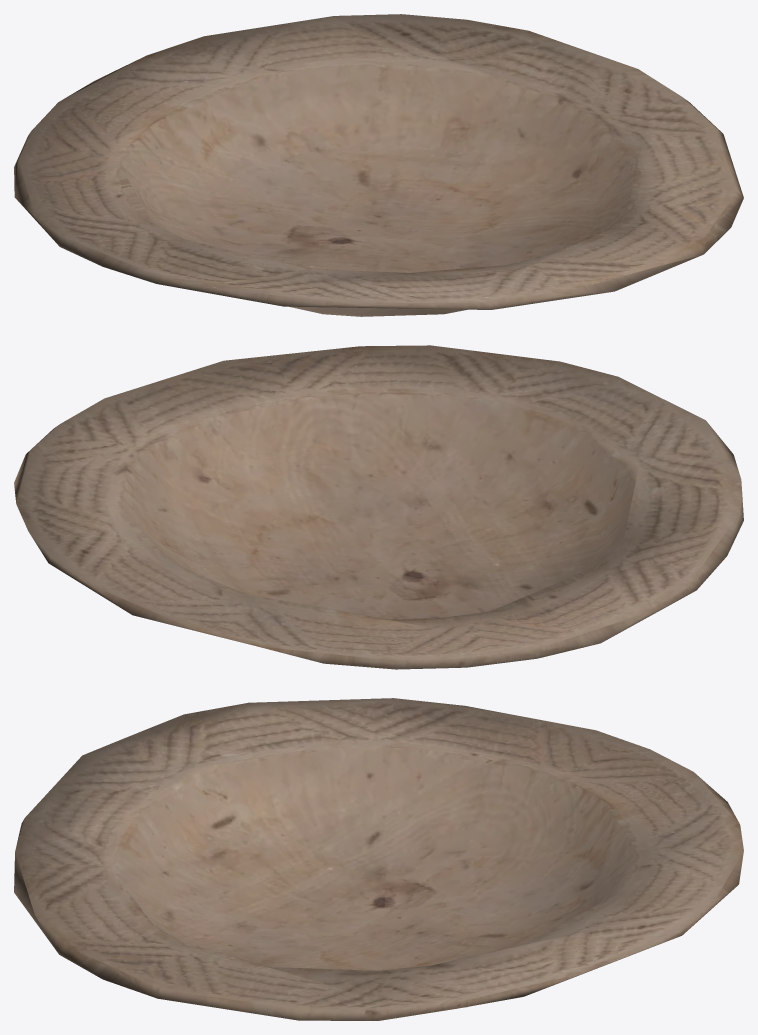
The model's file is plate-0-far.glb.
The picture shows the model from 3 angles, top to bottom: view 1: azimuth 30°, elevation 25°; view 2: azimuth 150°, elevation 25°; view 3: azimuth 270°, elevation 25°; orthographic projection. The views are drawn at different scales.
Parts seen in each view (by area): view 1: carved_wooden_plate; view 2: carved_wooden_plate; view 3: carved_wooden_plate.
Part boxes in pixels (x1,y1,x2,y2): carved_wooden_plate: (14, 14, 743, 316); carved_wooden_plate: (14, 345, 743, 669); carved_wooden_plate: (14, 698, 743, 1020).
Size of the model in its own units: 0.29 by 0.0395 by 0.284.
1 material, 1 textured.
